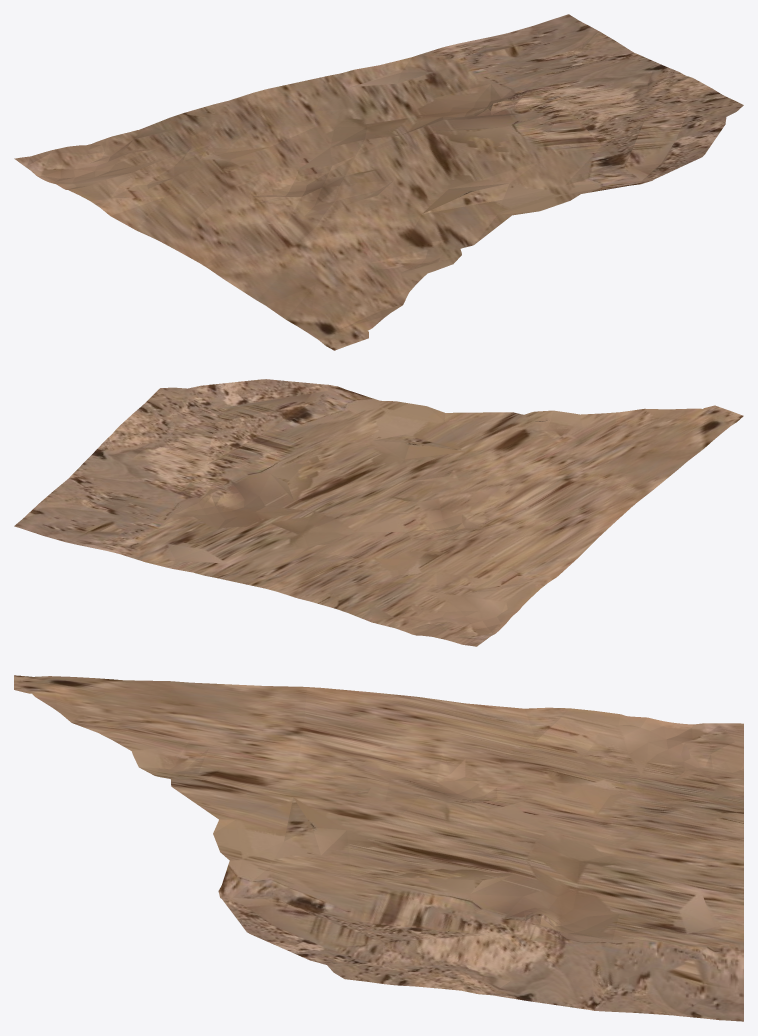
3 renders of one model, top to bottom at view 1: azimuth 30°, elevation 25°; view 2: azimuth 150°, elevation 25°; view 3: azimuth 270°, elevation 25°, orthographic. The views are drawn at different scales.
Size of the model in its own units: 4.18 by 0.3646 by 4.18.
Materials: 2 (2 with a texture image).
